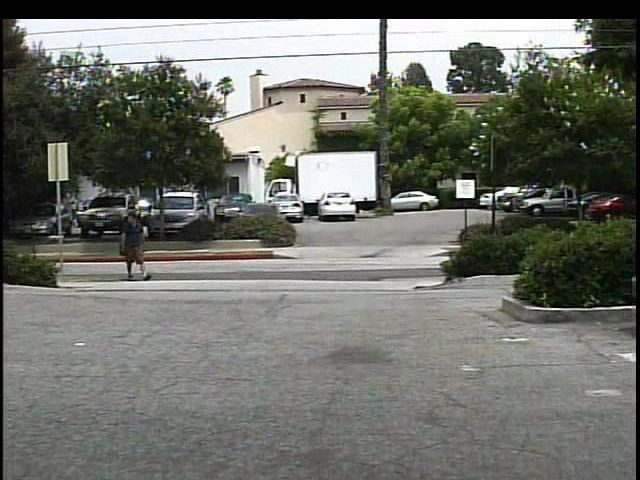person: (118, 208, 152, 284)
